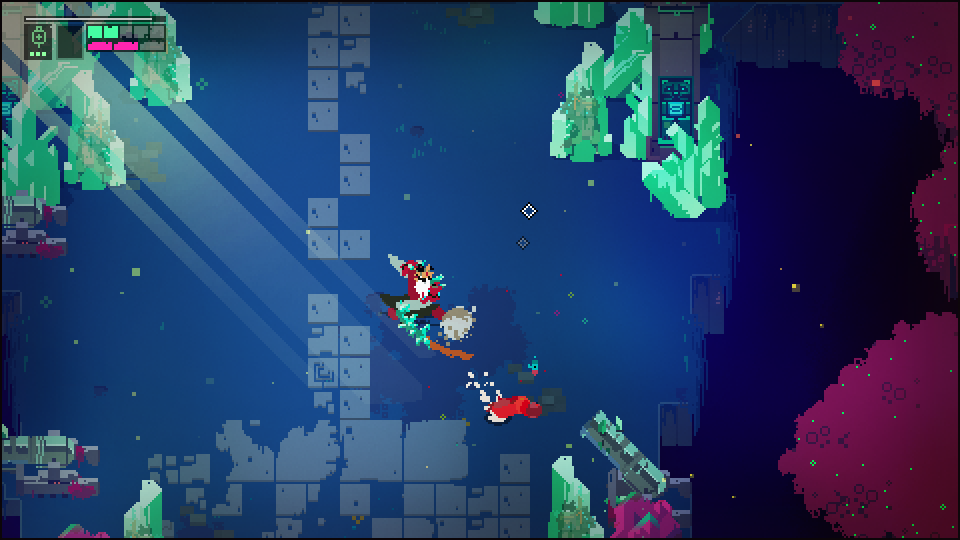hanged_man: (384, 254, 475, 359)
player: (490, 395, 540, 423)
